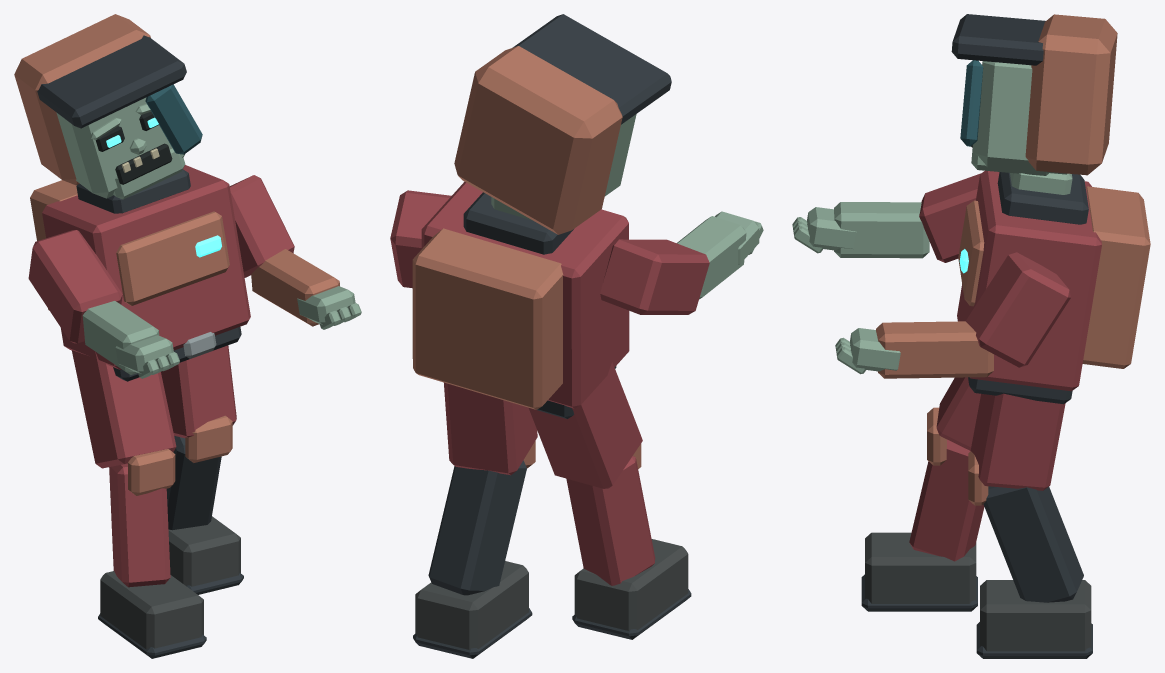
The model's file is zumbi-0.glb.
3 views of the same model, side by side, from view 1: azimuth 30°, elevation 25°; view 2: azimuth 150°, elevation 25°; view 3: azimuth 270°, elevation 25° (orthographic). The views are drawn at different scales.
Parts seen in each view (by area): view 1: Jaqueta rasgada; view 2: Jaqueta rasgada; view 3: Jaqueta rasgada.
Part boxes in pixels (left/top/right/bottom): Jaqueta rasgada: left=14, top=14, right=361, bottom=658; Jaqueta rasgada: left=390, top=14, right=763, bottom=658; Jaqueta rasgada: left=792, top=14, right=1150, bottom=658.
Bounding box in the file's own units: 1.04 × 2.19 × 1.21.
